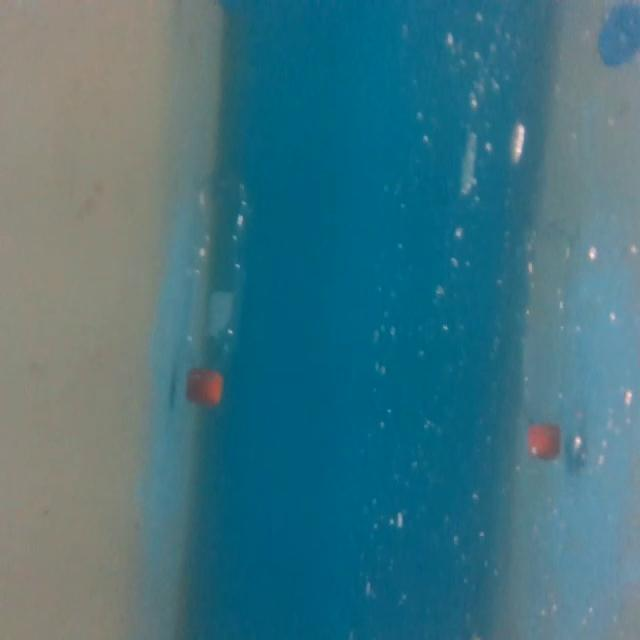plastic bottle: (184, 167, 263, 413)
